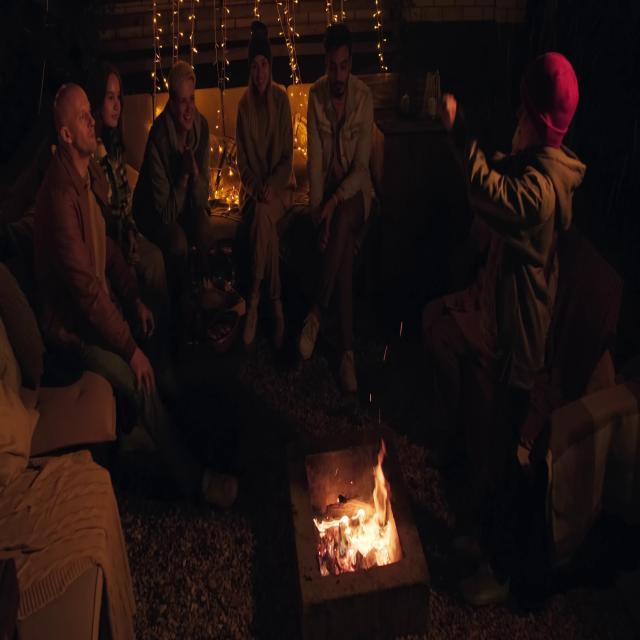Fire: (319, 483, 386, 568)
